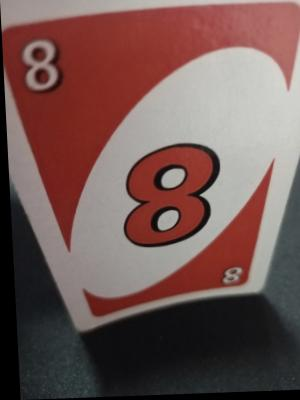num_8: (212, 262, 243, 294)
